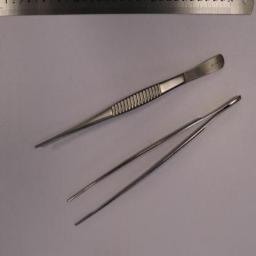DeBakey Dissector: (68, 96, 240, 228), (36, 54, 224, 150)
